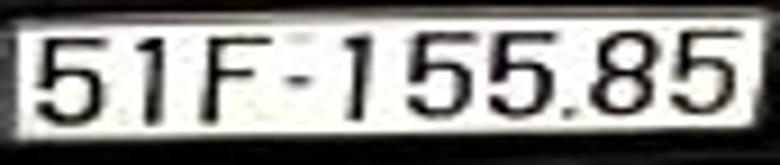-: (279, 72, 318, 94)
.: (557, 101, 585, 126)
1: (339, 28, 376, 124), (134, 36, 168, 133)
5: (36, 32, 112, 129), (403, 32, 481, 117), (676, 24, 738, 118), (491, 29, 553, 119)
8: (591, 27, 661, 118)
F: (199, 32, 274, 131)
